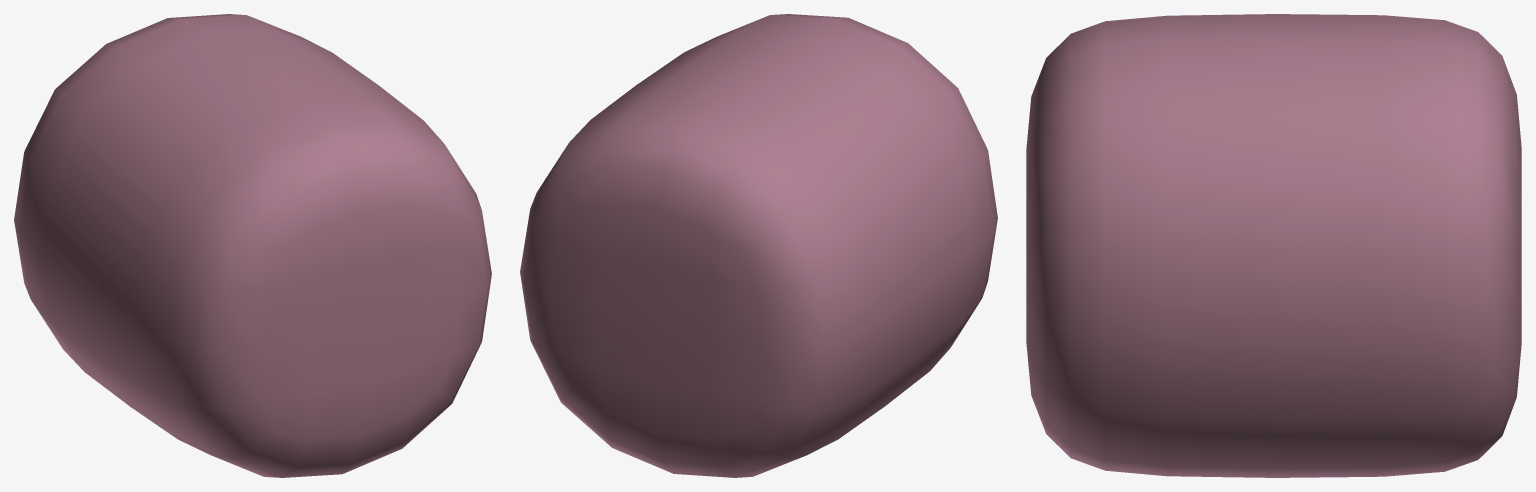
The model's file is SM_WormBody.fbx.
3 views of the same model, side by side, from view 1: azimuth 30°, elevation 25°; view 2: azimuth 150°, elevation 25°; view 3: azimuth 270°, elevation 25° (orthographic). The views are drawn at different scales.
Visible parts, largest first — view 1: SM_WormBody; view 2: SM_WormBody; view 3: SM_WormBody.
Boxes of the visible parts, x1,y1,x2,y2 form: SM_WormBody: (14,14,491,477); SM_WormBody: (520,14,997,477); SM_WormBody: (1026,14,1521,477).
Size of the model in its own units: 177 by 178 by 193.
